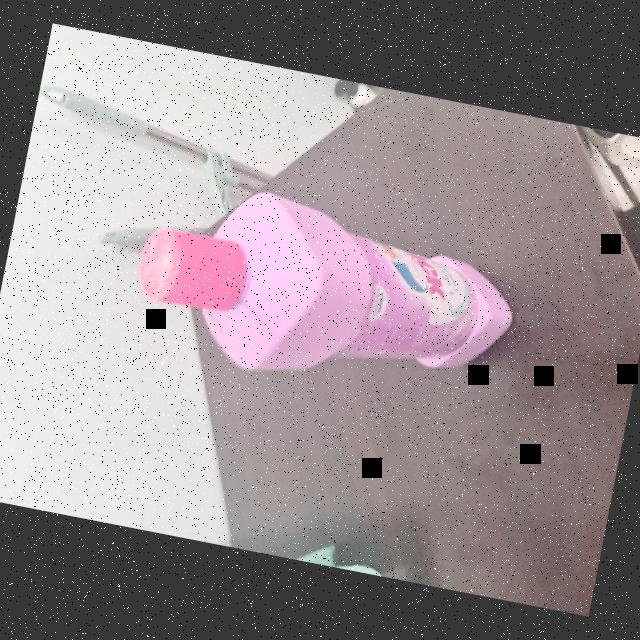chemical_plastic_bottle: (122, 172, 529, 421)
